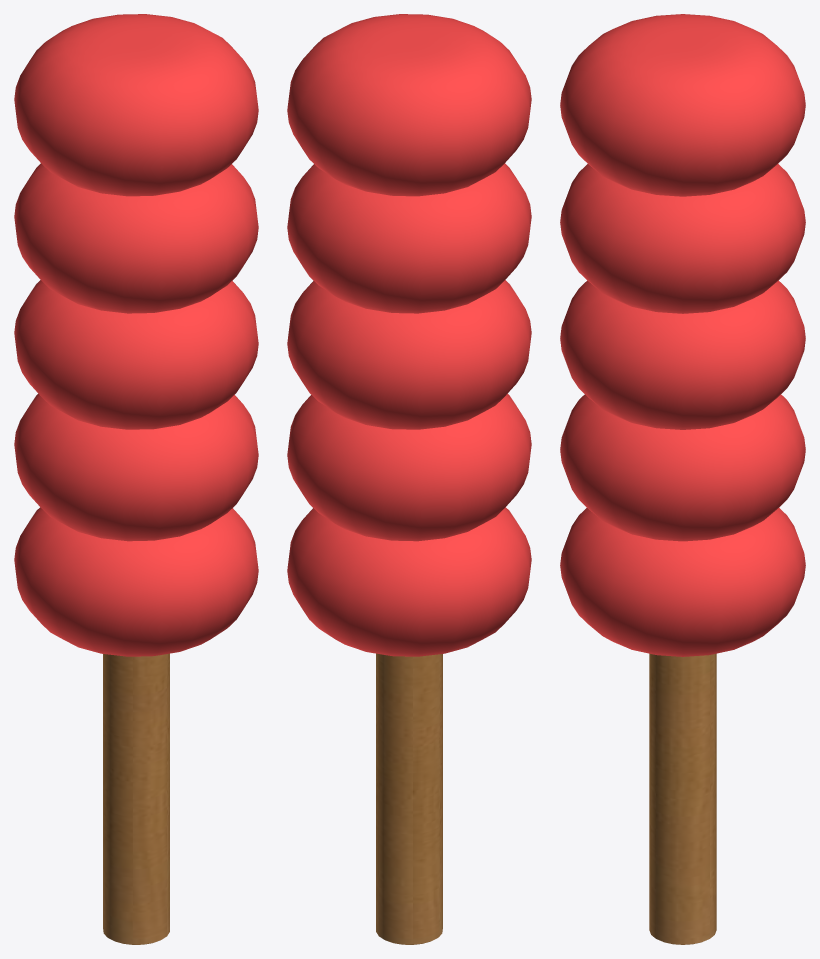
File: tanghulu.fbx
3 views of the same model, side by side, from view 1: azimuth 30°, elevation 25°; view 2: azimuth 150°, elevation 25°; view 3: azimuth 270°, elevation 25° (orthographic).
Parts seen in each view (by area): view 1: tanghul:pSphere6, tanghul:pSphere5, tanghul:pSphere4, tanghul:polySurface1, tanghul:pSphere3, tanghul:polySurface2; view 2: tanghul:pSphere6, tanghul:pSphere5, tanghul:pSphere4, tanghul:polySurface1, tanghul:pSphere3, tanghul:polySurface2; view 3: tanghul:pSphere6, tanghul:pSphere5, tanghul:pSphere4, tanghul:polySurface1, tanghul:pSphere3, tanghul:polySurface2.
Part boxes in pixels (bbox=[...]): tanghul:pSphere6: bbox=[14, 14, 258, 196]; tanghul:pSphere5: bbox=[14, 163, 258, 313]; tanghul:pSphere4: bbox=[14, 280, 258, 429]; tanghul:polySurface1: bbox=[14, 507, 258, 656]; tanghul:pSphere3: bbox=[14, 393, 258, 541]; tanghul:polySurface2: bbox=[103, 653, 169, 944]; tanghul:pSphere6: bbox=[287, 14, 531, 196]; tanghul:pSphere5: bbox=[287, 163, 531, 313]; tanghul:pSphere4: bbox=[287, 280, 531, 429]; tanghul:polySurface1: bbox=[287, 507, 531, 656]; tanghul:pSphere3: bbox=[287, 393, 531, 541]; tanghul:polySurface2: bbox=[376, 653, 442, 944]; tanghul:pSphere6: bbox=[560, 14, 805, 196]; tanghul:pSphere5: bbox=[560, 164, 805, 313]; tanghul:pSphere4: bbox=[560, 280, 805, 429]; tanghul:polySurface1: bbox=[560, 508, 805, 656]; tanghul:pSphere3: bbox=[560, 394, 805, 541]; tanghul:polySurface2: bbox=[649, 653, 716, 944].
Bounding box in the file's own units: 0.5 × 0.5 × 2.
Materials: 2 (1 with a texture image).
